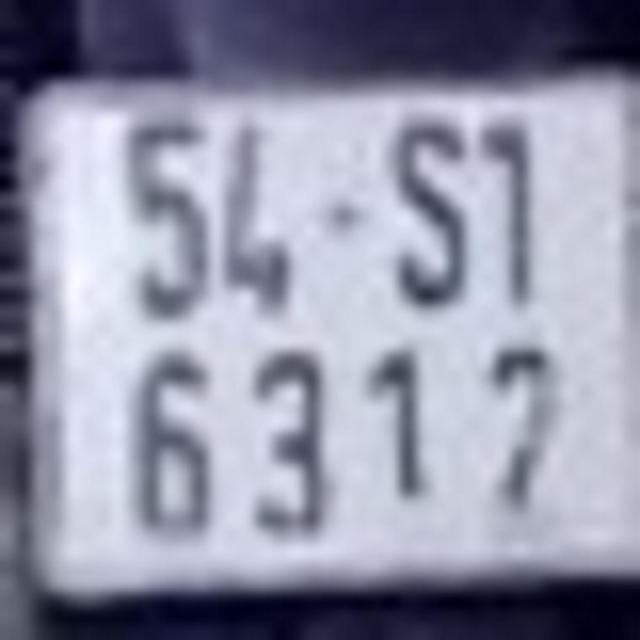1: (478, 94, 534, 304), (374, 335, 429, 524)
2: (485, 342, 559, 532)
3: (255, 352, 324, 531)
4: (227, 118, 289, 320)
5: (126, 122, 208, 308)
6: (126, 348, 206, 540)
S: (395, 123, 466, 312)
